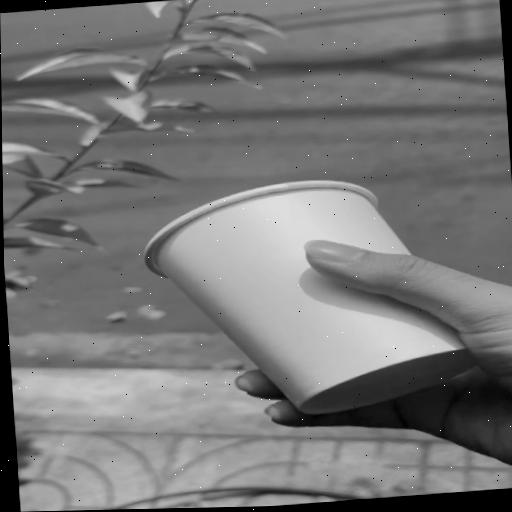Ly_giay: (146, 180, 475, 414)
